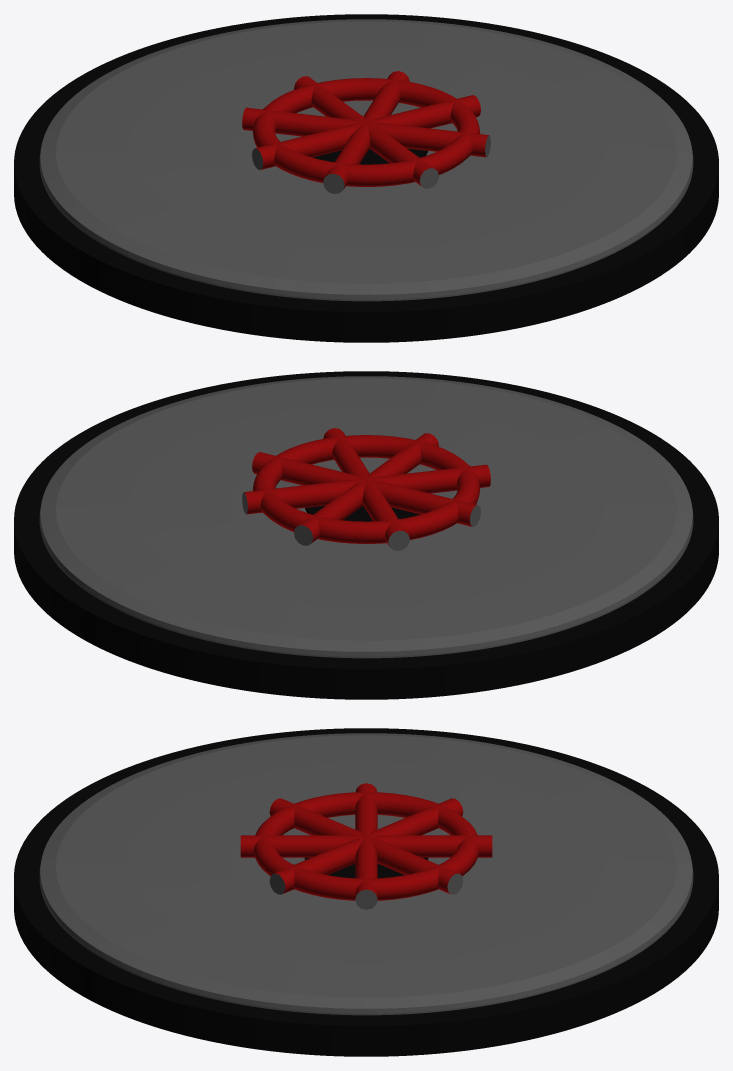
File: lowpoly_hatch_trap_door.glb
3 renders of one model, top to bottom at view 1: azimuth 30°, elevation 25°; view 2: azimuth 150°, elevation 25°; view 3: azimuth 270°, elevation 25°, orthographic.
Parts seen in each view (by area): view 1: Cylinder; view 2: Cylinder; view 3: Cylinder.
Boxes of the visible parts, <box> form: Cylinder: <box>14,14,718,342</box>; Cylinder: <box>14,371,718,699</box>; Cylinder: <box>14,728,718,1056</box>.
Bounding box in the file's own units: 2 × 0.2238 × 2.
